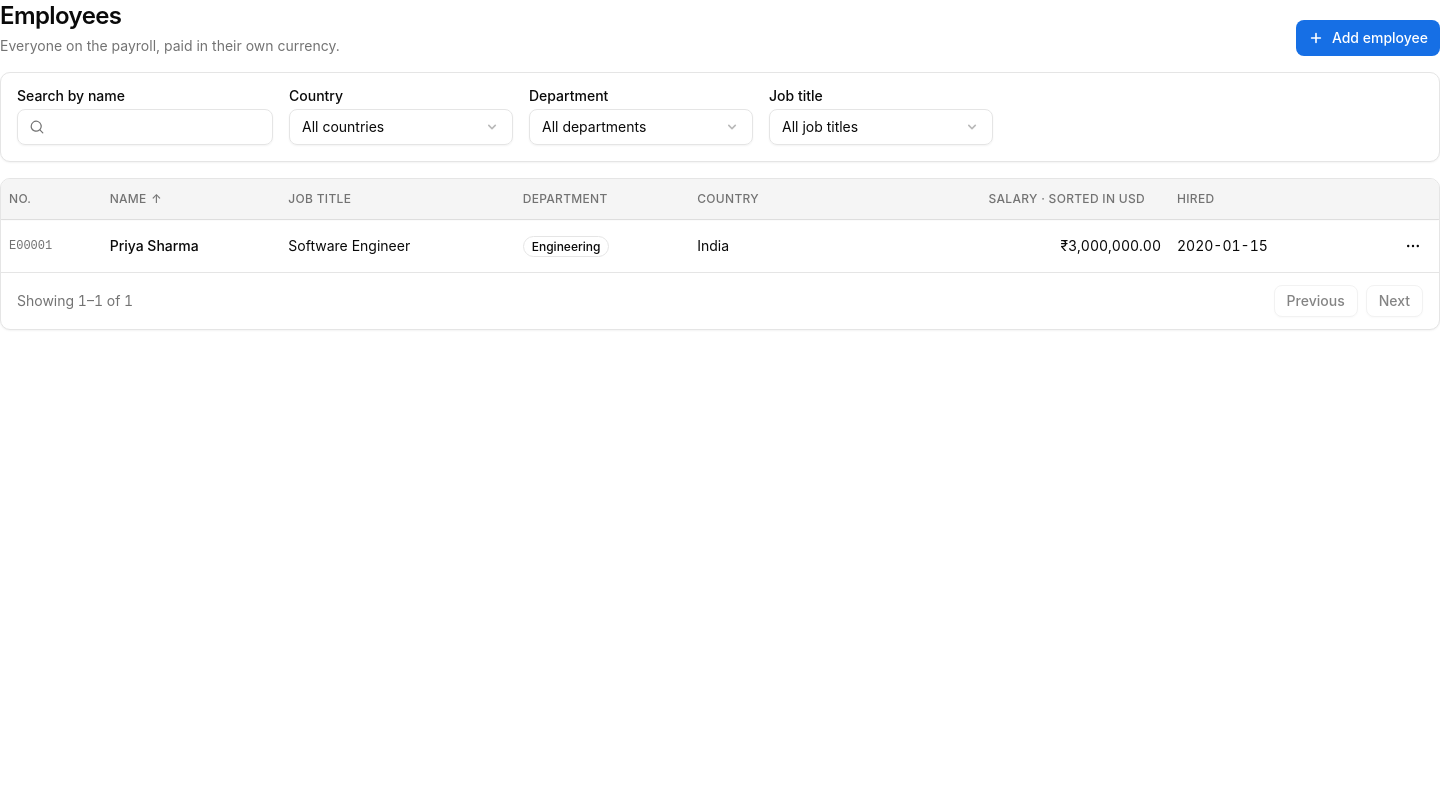
Test: EmployeesPage › deletes an employee after confirmation and reloads the list
Expected: the row "E00001" is shown, [1, 219, 1439, 272]
Press Enter in the button named "More actions for Priya Sharma", box [1395, 228, 1431, 264]
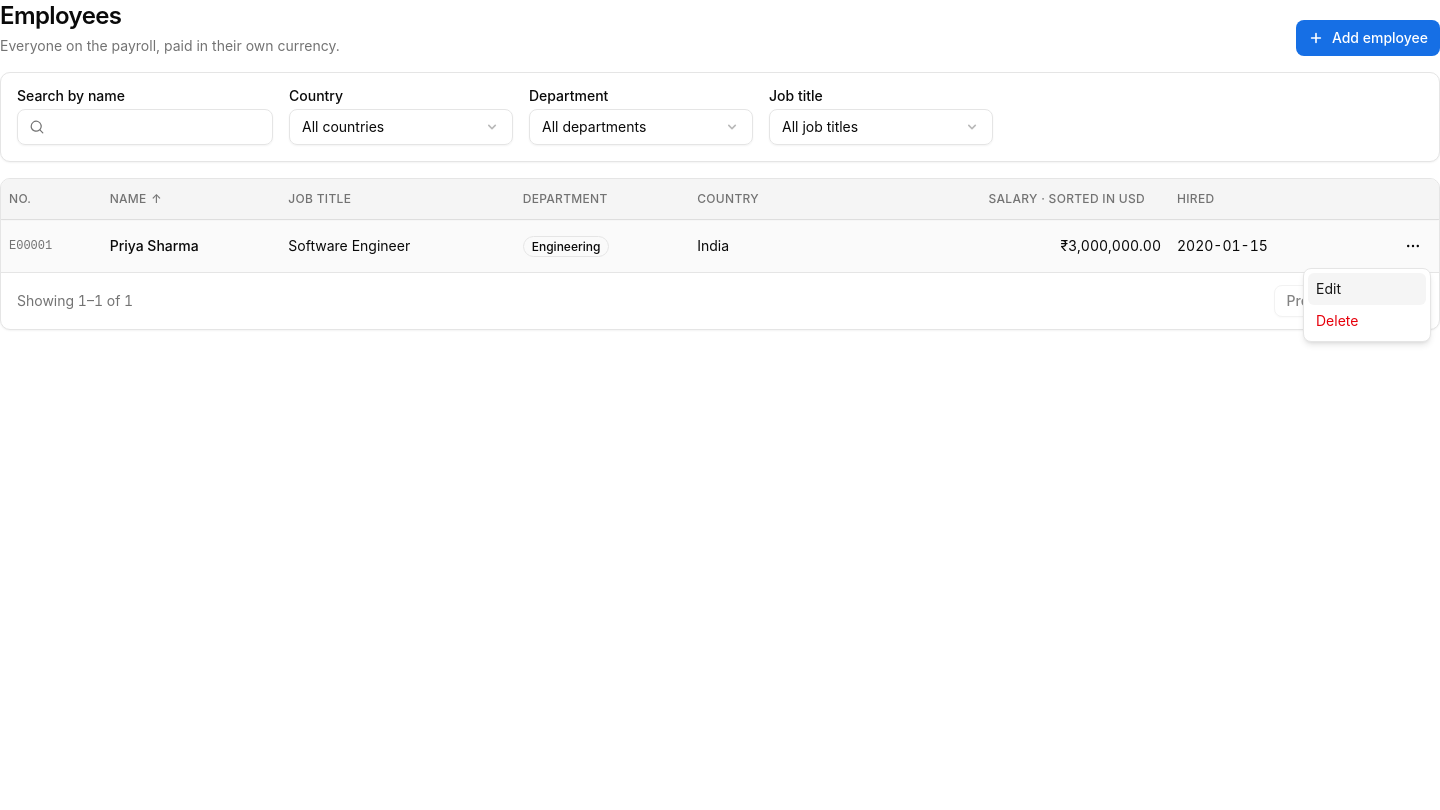
Click the menu item "Delete".
click(1337, 320)  # box [1316, 312, 1358, 329]
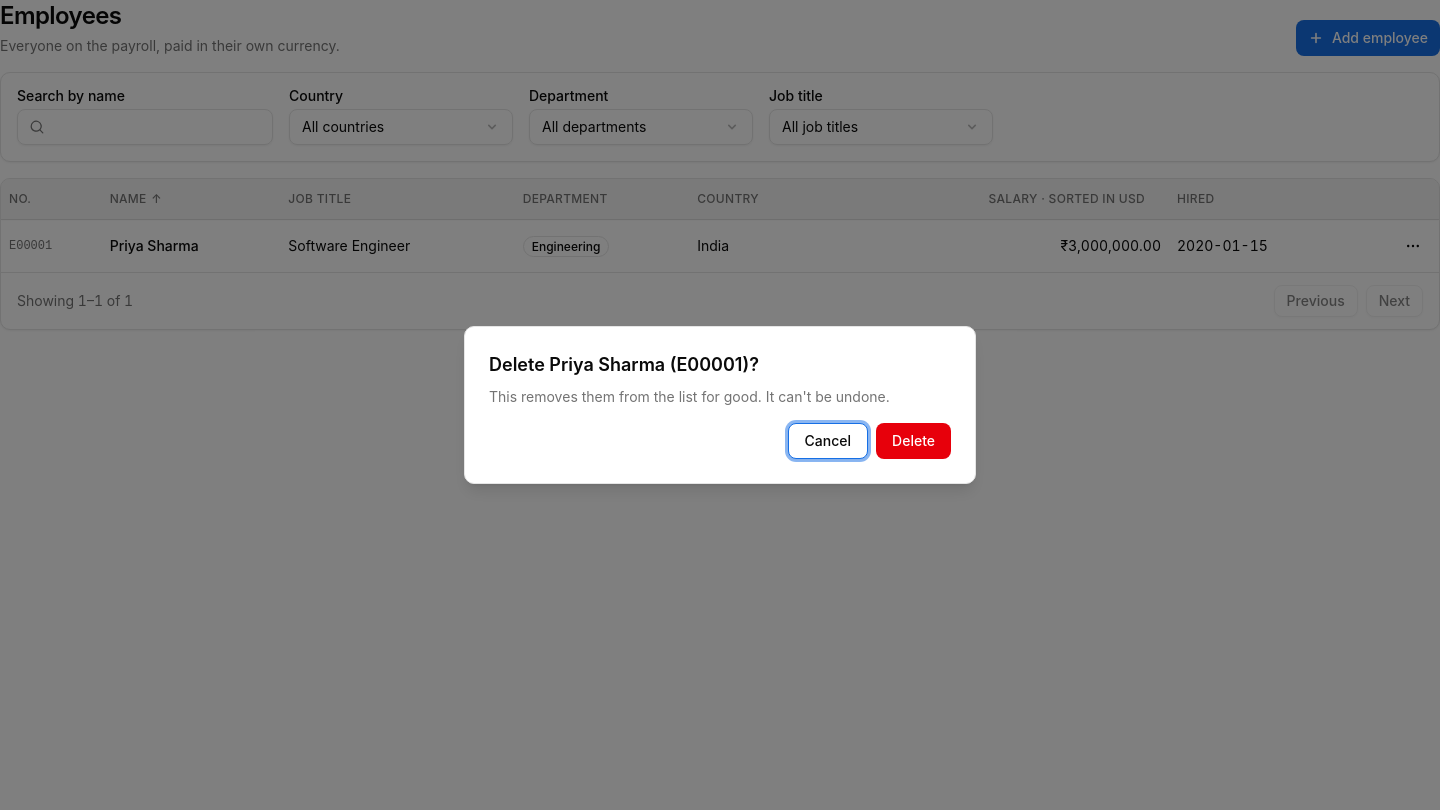
Click the button "Delete".
click(914, 441)  # box [876, 423, 951, 459]
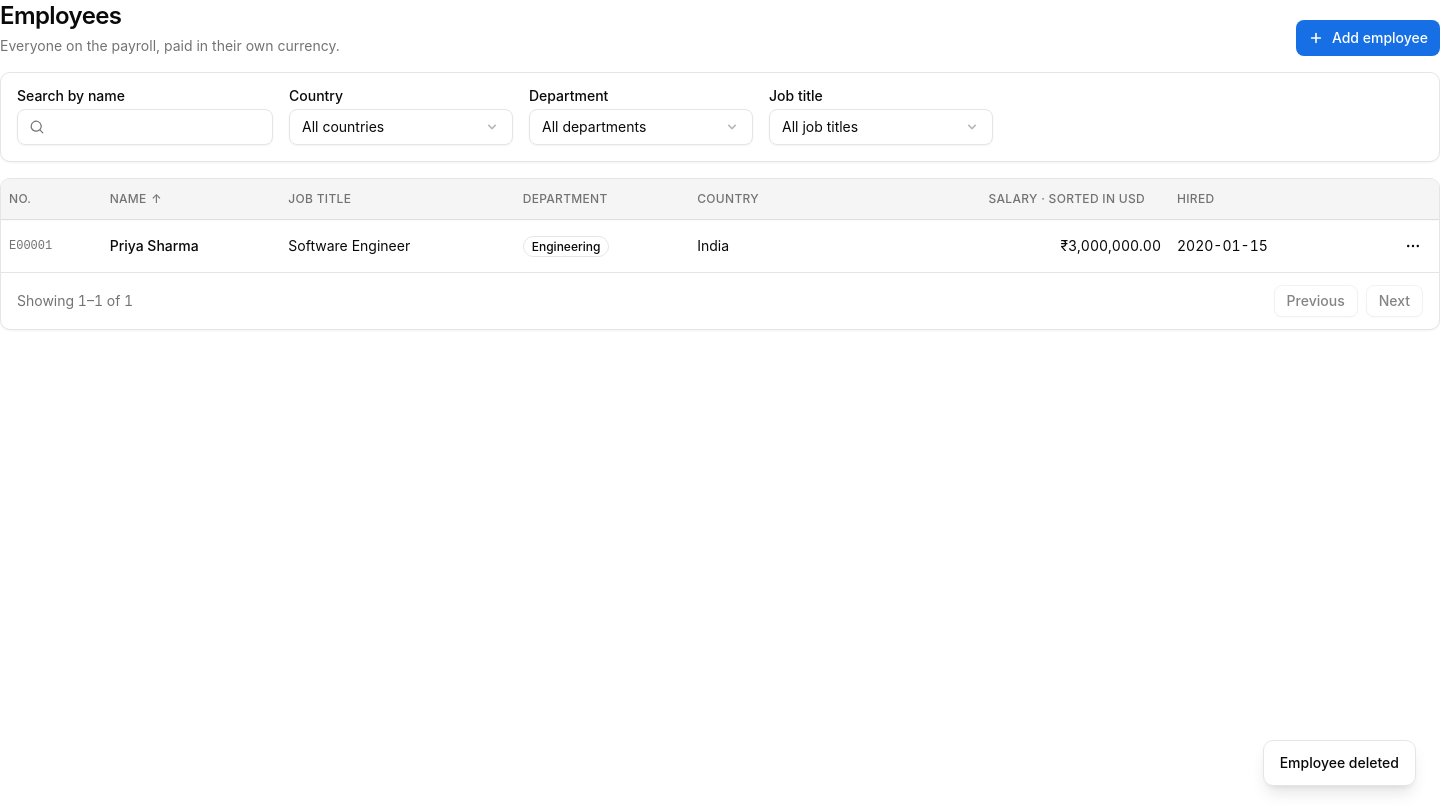
Expected: the text "Employee deleted" is shown, [1263, 740, 1416, 786]
